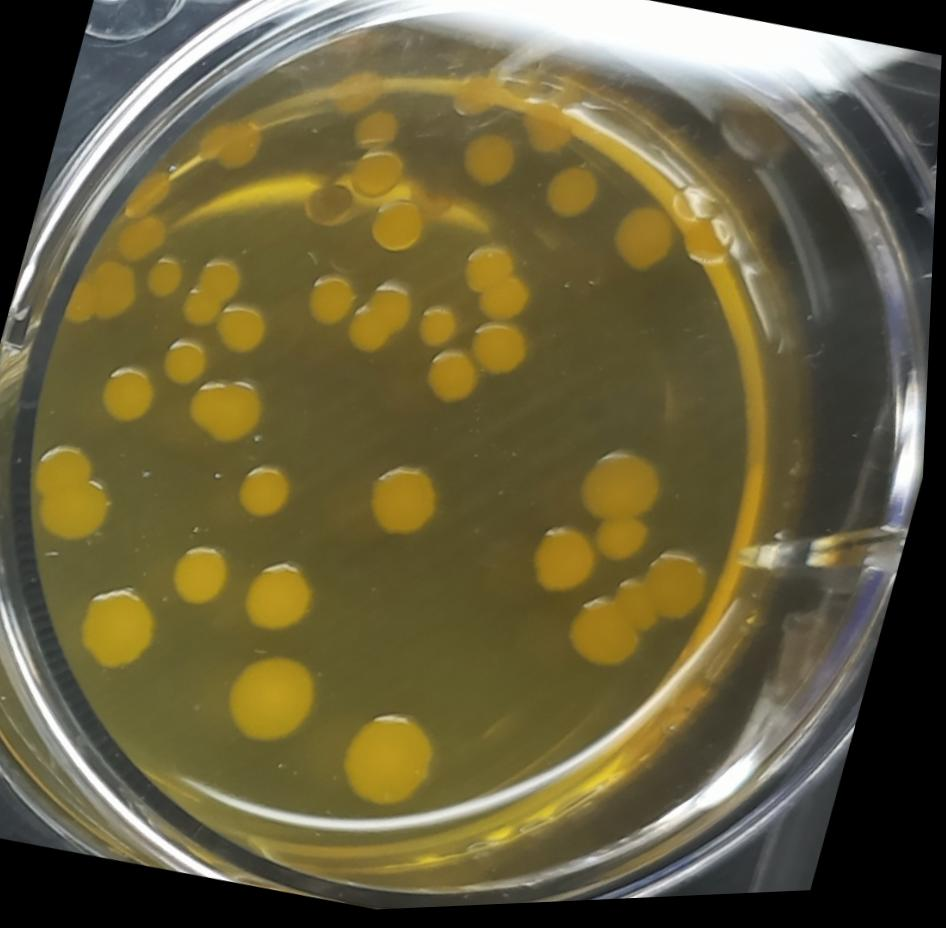vharveyi: (452, 234, 552, 332), (359, 456, 455, 554), (418, 339, 500, 419), (464, 313, 542, 388)
